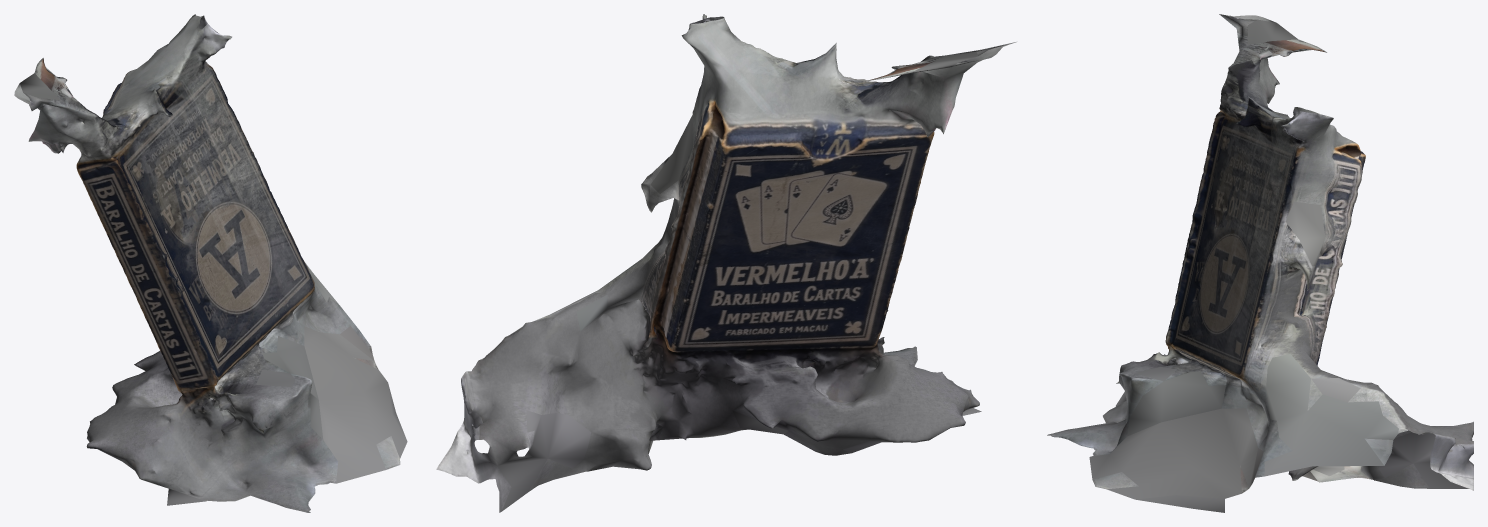
Rendered from baralho__de__cartas.glb.
The picture shows the model from 3 angles, left to right: view 1: azimuth 30°, elevation 25°; view 2: azimuth 150°, elevation 25°; view 3: azimuth 270°, elevation 25°; orthographic projection. The views are drawn at different scales.
Visible parts, largest first — view 1: Object_2; view 2: Object_2; view 3: Object_2.
Part boxes in pixels (x1=…): Object_2: x1=14, y1=14, x2=407, y2=512; Object_2: x1=436, y1=14, x2=1016, y2=512; Object_2: x1=1047, y1=14, x2=1473, y2=512.
Bounding box in the file's own units: 0.5459 × 0.5463 × 0.6209.
Materials: 1 (1 with a texture image).
